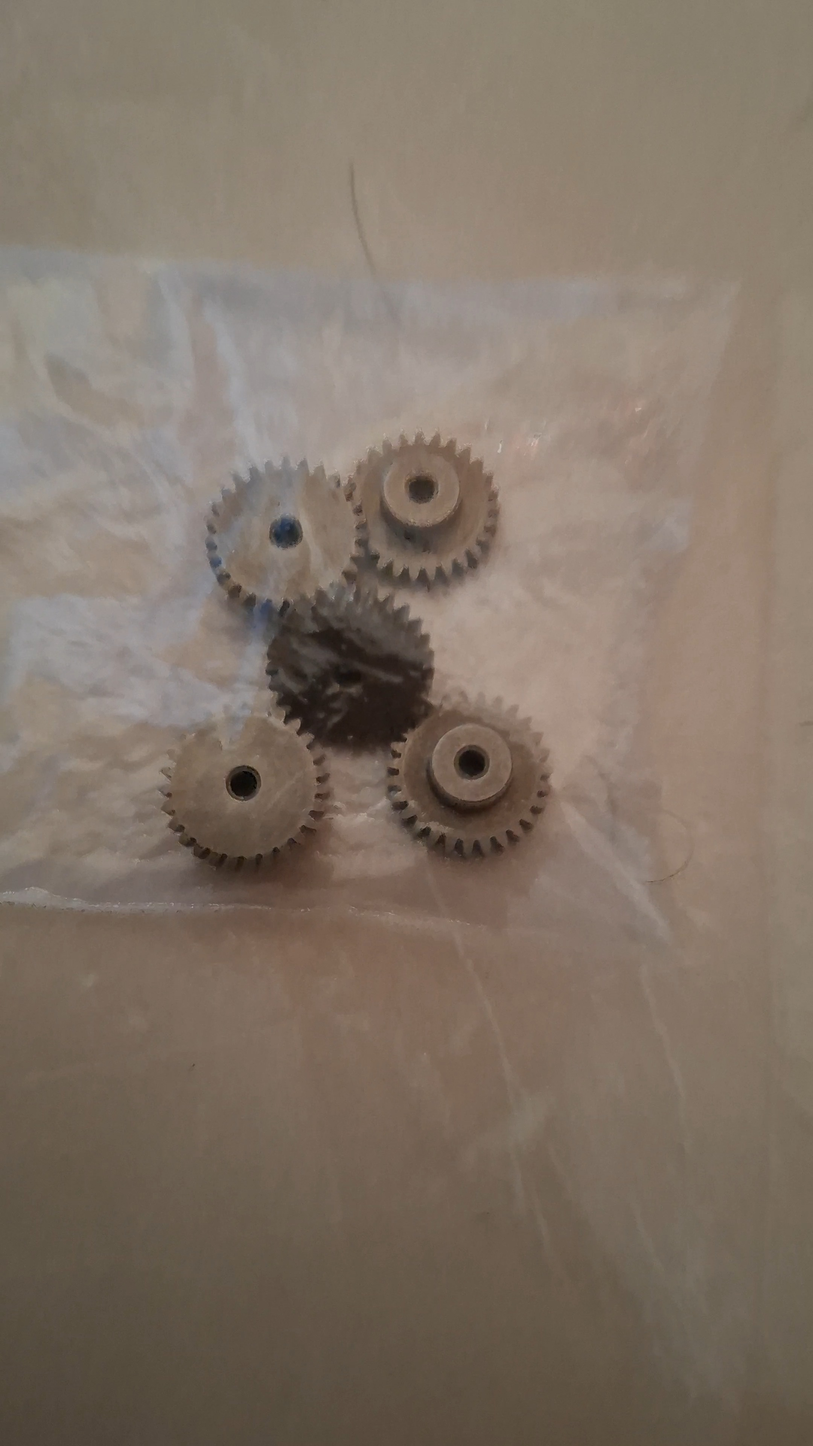spur gear: (266, 586, 433, 746), (162, 706, 327, 865), (388, 697, 550, 857), (206, 458, 365, 609), (352, 434, 498, 586)
